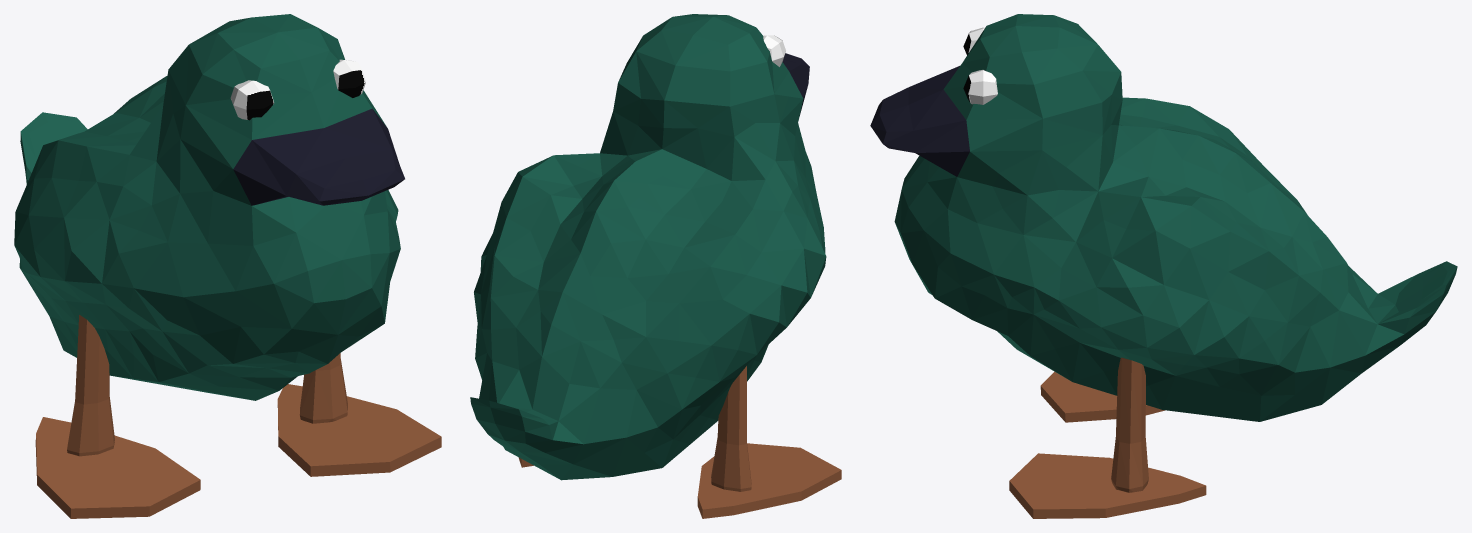
Rendered from duckPoseNeutral.obj.
The picture shows the model from 3 angles, left to right: view 1: azimuth 30°, elevation 25°; view 2: azimuth 150°, elevation 25°; view 3: azimuth 270°, elevation 25°; orthographic projection. The views are drawn at different scales.
Visible parts, largest first — view 1: Cube_Cube.016, Cube_Cube.001_Cube_Cube.002, Plane.001, Plane, Cube.001_Cube.017, Cube.002_Cube.018, Cube.004_Cube.007, Cube.003_Cube.006; view 2: Cube_Cube.016, Plane.001, Cube.001_Cube.017, Cube_Cube.001_Cube_Cube.002, Cube.004_Cube.007; view 3: Cube_Cube.016, Plane, Cube_Cube.001_Cube_Cube.002, Cube.002_Cube.018, Plane.001, Cube.003_Cube.006.
Boxes of the visible parts, x1,y1,x2,y2 form: Cube_Cube.016: (14, 14, 400, 400); Cube_Cube.001_Cube_Cube.002: (233, 108, 404, 205); Plane.001: (35, 417, 200, 518); Plane: (277, 384, 441, 476); Cube.001_Cube.017: (67, 315, 114, 456); Cube.002_Cube.018: (299, 353, 347, 423); Cube.004_Cube.007: (230, 80, 273, 120); Cube.003_Cube.006: (333, 59, 365, 97); Cube_Cube.016: (470, 14, 826, 480); Plane.001: (697, 443, 841, 518); Cube.001_Cube.017: (711, 366, 751, 491); Cube_Cube.001_Cube_Cube.002: (782, 53, 809, 116); Cube.004_Cube.007: (763, 35, 785, 66); Cube_Cube.016: (894, 14, 1457, 421); Plane: (1009, 453, 1206, 518); Cube_Cube.001_Cube_Cube.002: (870, 66, 969, 176); Cube.002_Cube.018: (1111, 357, 1148, 492); Plane.001: (1040, 371, 1164, 422); Cube.003_Cube.006: (963, 70, 997, 104).
Size of the model in its own units: 1.67 by 2.08 by 2.64.
3 materials, 3 textured.
